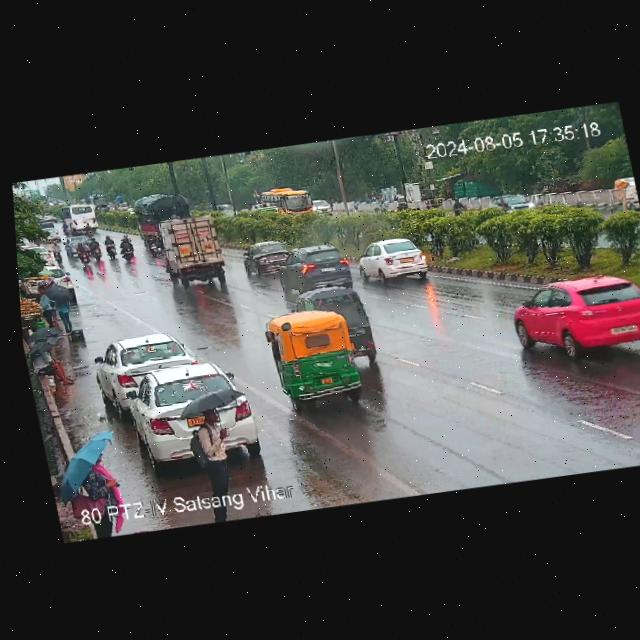bus: (261, 185, 314, 220), (58, 201, 100, 231)
car: (503, 266, 640, 371), (121, 359, 255, 450), (263, 304, 371, 413), (93, 330, 198, 404), (295, 280, 387, 361), (271, 240, 361, 307), (349, 233, 433, 290), (241, 240, 296, 280), (490, 189, 533, 213)
motorcycle: (71, 239, 92, 268), (143, 232, 164, 259), (86, 237, 104, 265), (121, 238, 140, 264), (103, 236, 119, 256), (451, 196, 467, 214), (121, 232, 130, 240)
person: (187, 403, 249, 495), (73, 448, 130, 512), (34, 279, 84, 336), (27, 339, 81, 391)
truck: (155, 210, 237, 291), (129, 187, 195, 237)
